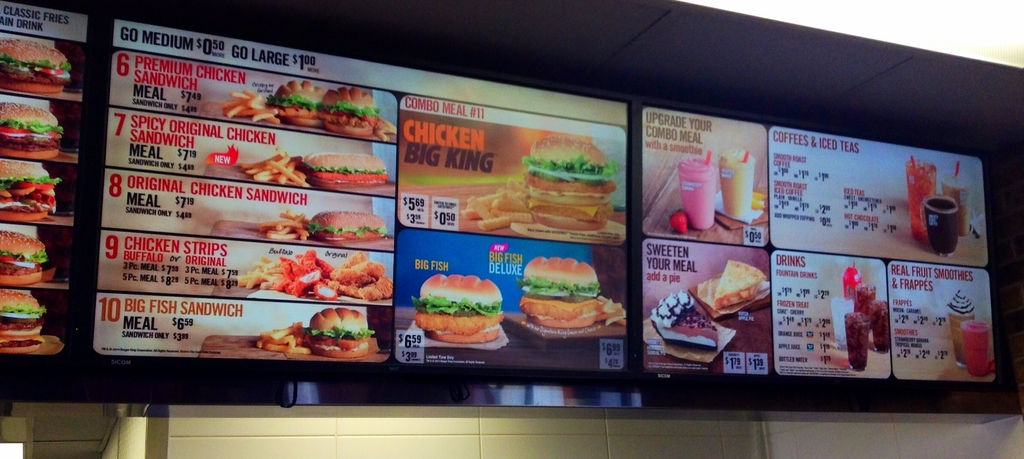Hamburger: (519, 132, 618, 230), (412, 276, 506, 342), (520, 258, 600, 328), (0, 37, 72, 95), (0, 99, 65, 157), (0, 160, 61, 221), (0, 289, 48, 349), (0, 226, 48, 284)
